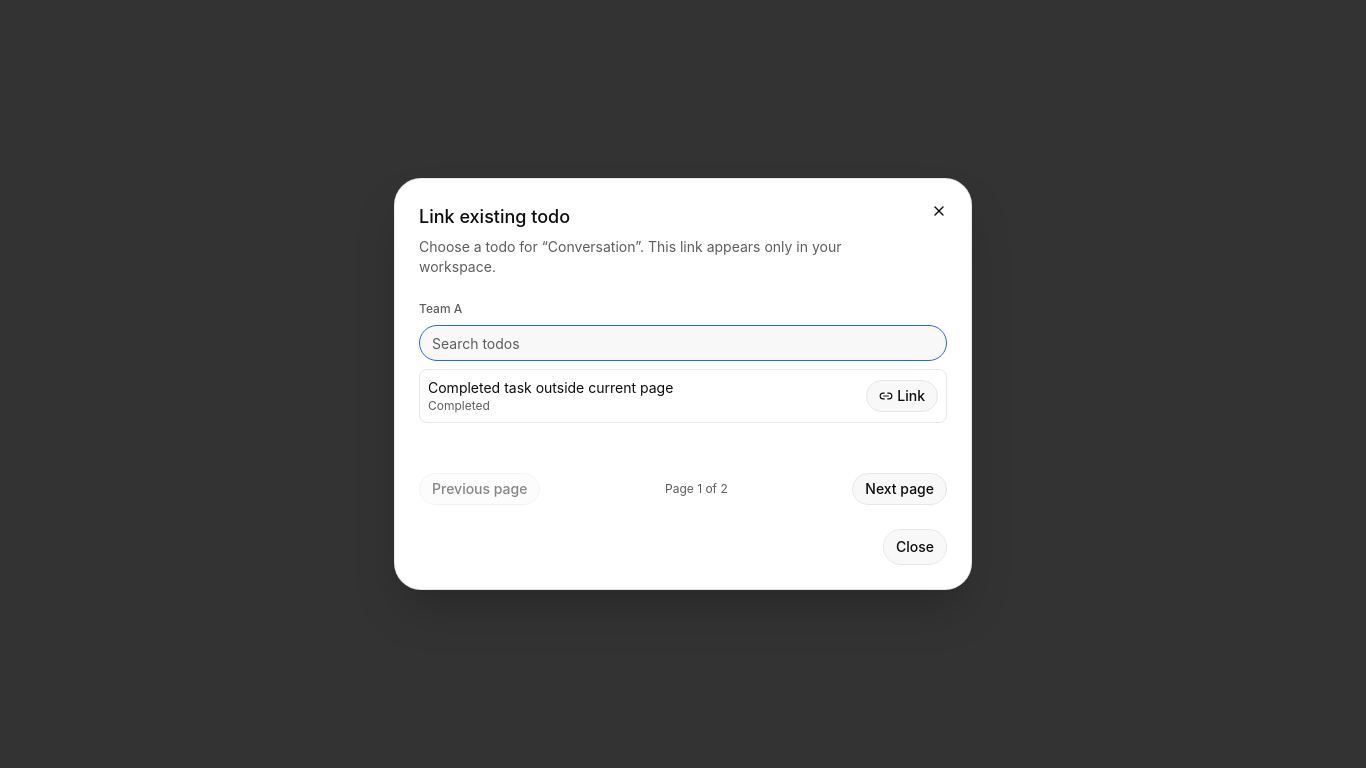
it: existing conversation links remain local and target the captured todo scope › keeps successful writes when the dialog's initial sources read finishes late
Check: the text "Completed task outside current page" is shown, box [428,379,673,396]
Click the button "Link". click: [902, 396]
box: [866,380,938,412]
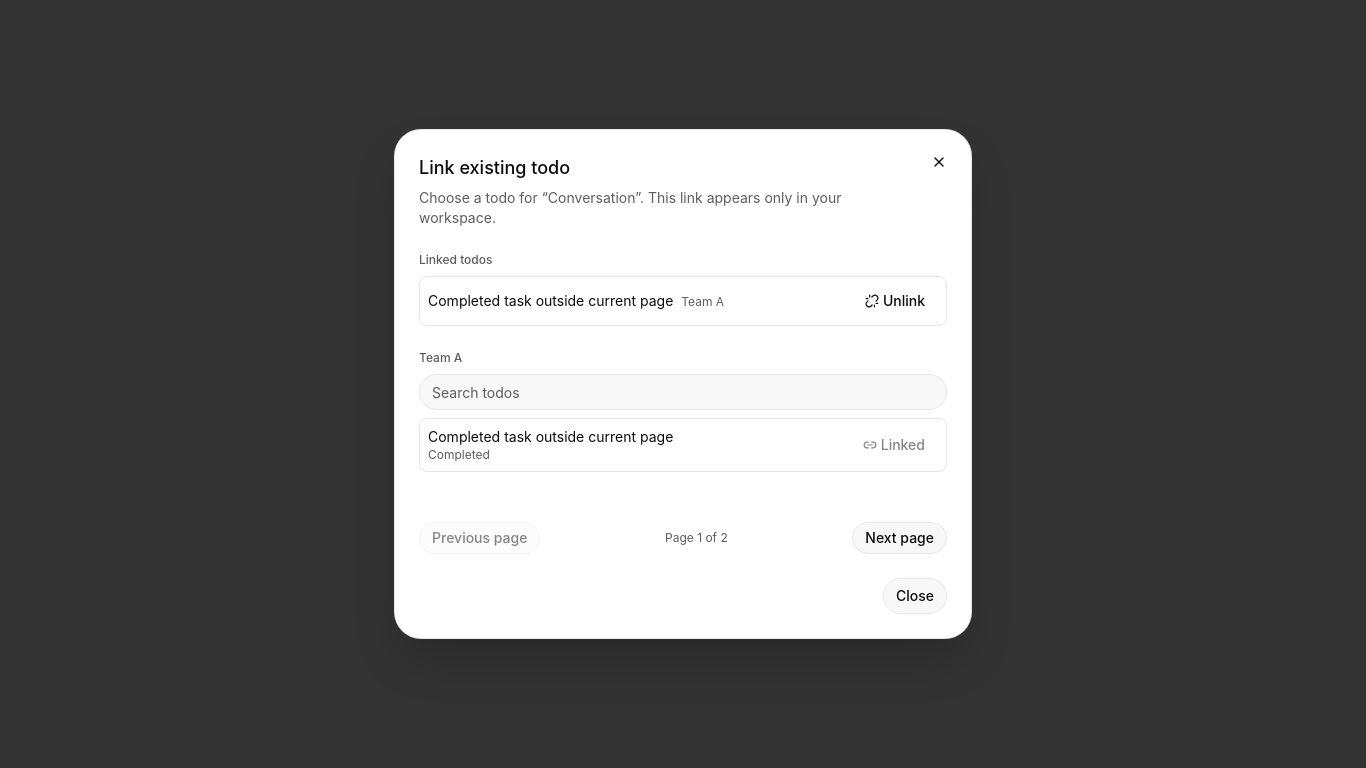
Check: the button "Unlink" is shown, box [852,285,938,317]
Check: the button "Linked" is disabled, box [850,429,938,461]
